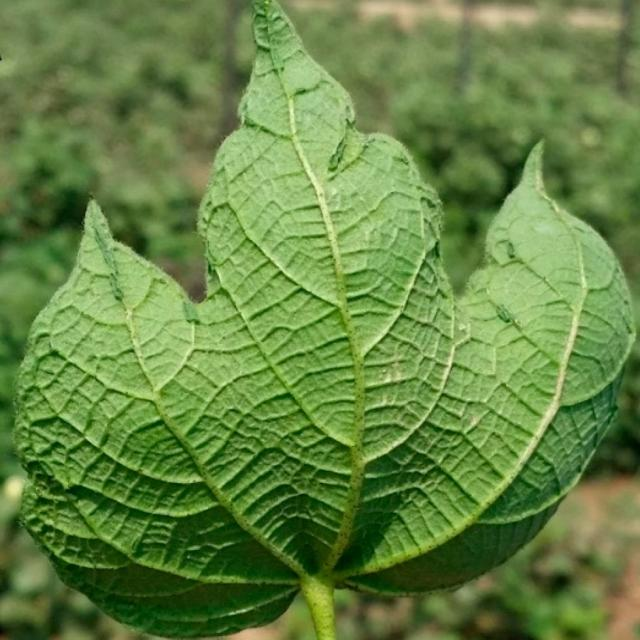Leaf Curl Virus: (25, 7, 623, 639)
